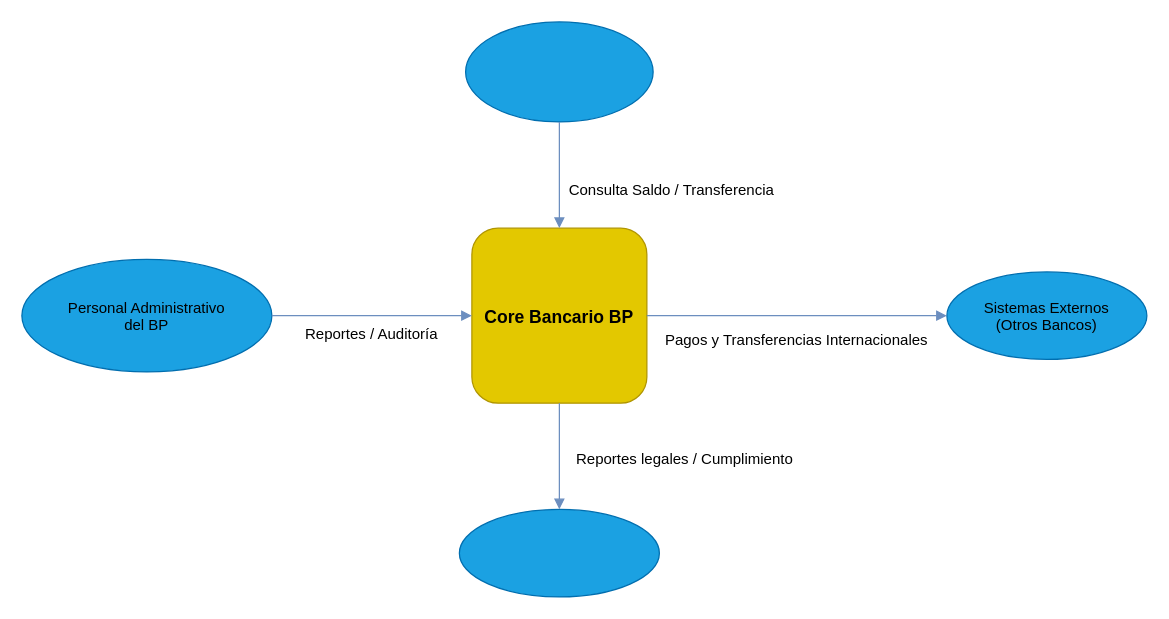
Some shapes in this 1169 by 619 pixel diagram are drawn without their labels. The shapes that lost their labels are listed below. From the top down, each one's box as (x1, y1, x2, y2) in pixels, then its label:
(464, 21, 653, 122): Clientes (Web / Mobile)
(458, 508, 659, 597): Entidades Reguladoras (Banco Central)
